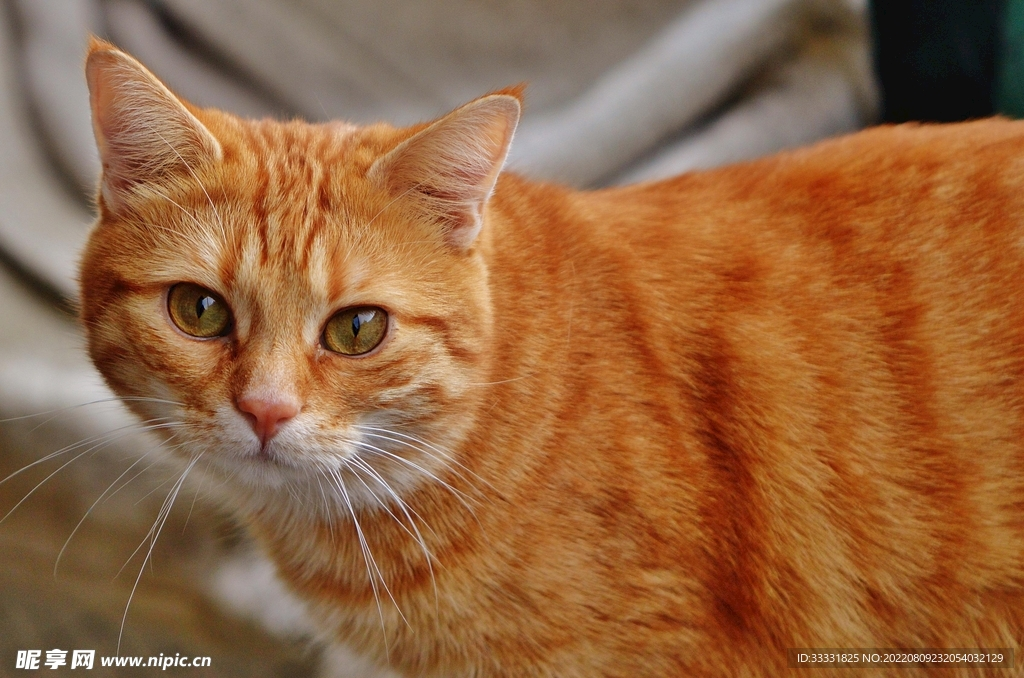cat: (78, 47, 521, 493)
